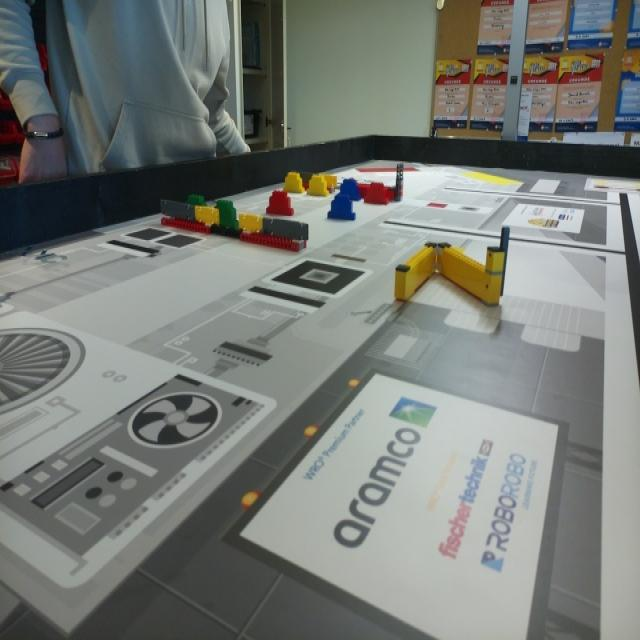blau: (328, 195, 355, 223), (340, 179, 358, 197)
gruen: (216, 202, 242, 225), (186, 195, 206, 207)
rot: (266, 192, 294, 216), (364, 182, 388, 206)
yellow: (285, 173, 304, 194), (310, 175, 326, 197)
